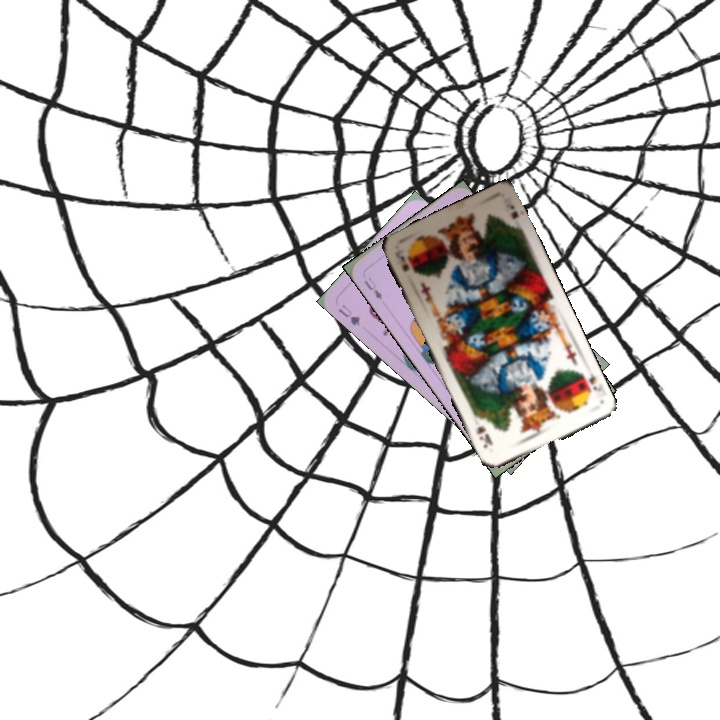EU: (360, 273, 385, 303)
GU: (334, 300, 362, 329)
SK: (576, 369, 605, 398), (394, 246, 412, 274)
